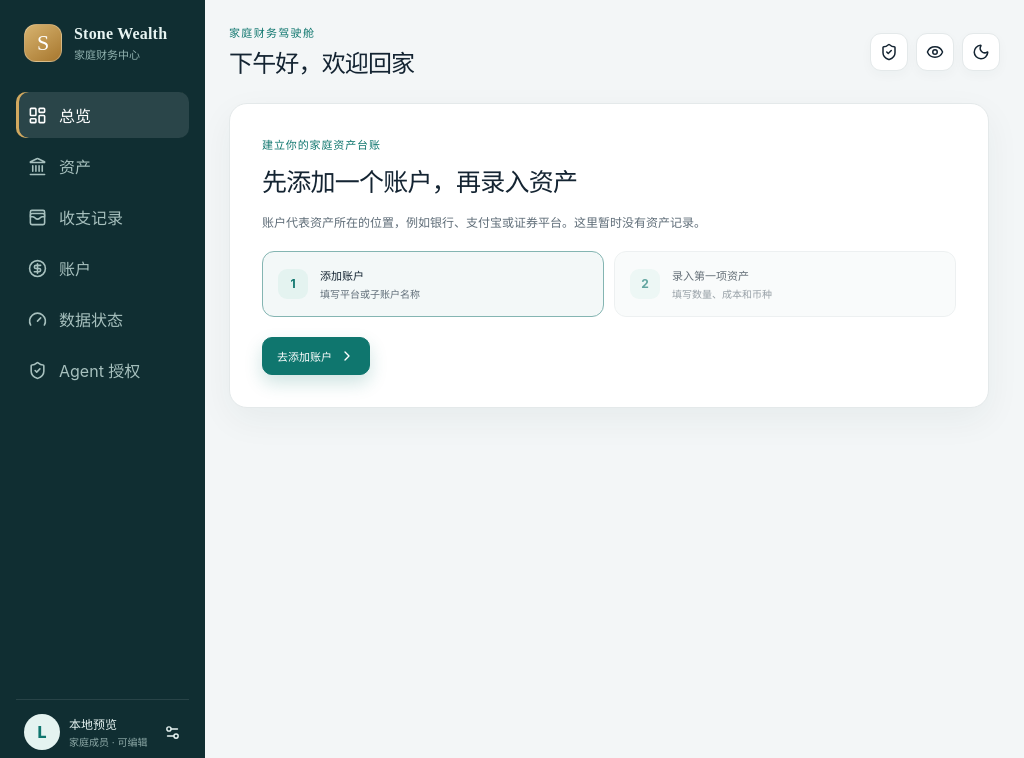
Test case: first household use › guides a new household from account creation to the existing asset form
Expected: the heading "先添加一个账户，再录入资产" is shown, left=262, top=166, right=577, bottom=198
Click the link "去添加账户".
click(316, 356)  # box left=262, top=337, right=370, bottom=375
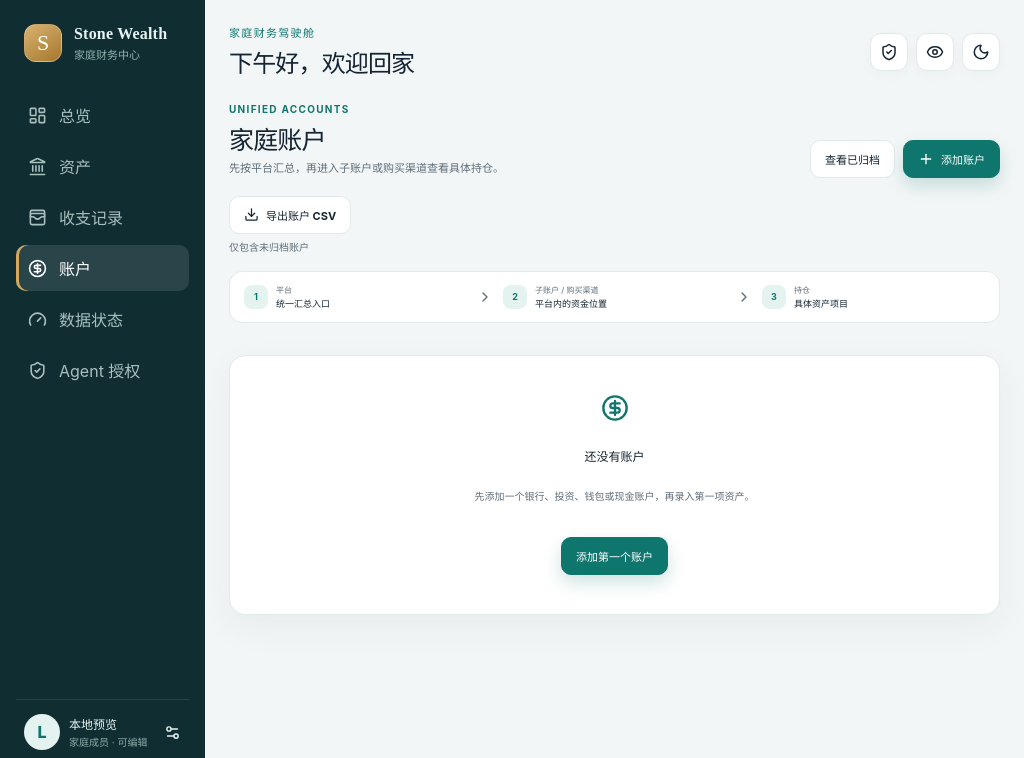
Click the button "添加第一个账户".
click(614, 556)  # box left=561, top=537, right=668, bottom=575
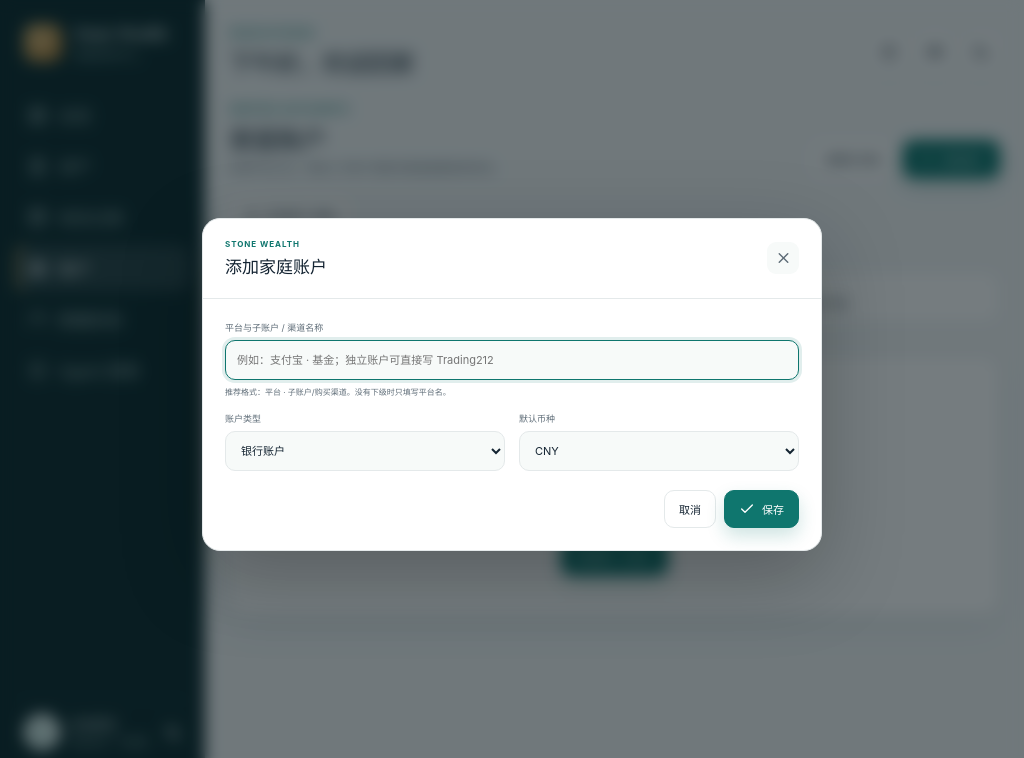
Type "测试银行 · 储蓄" into the field.
click(512, 360); type("测试银行 · 储蓄")  # box left=225, top=340, right=799, bottom=380
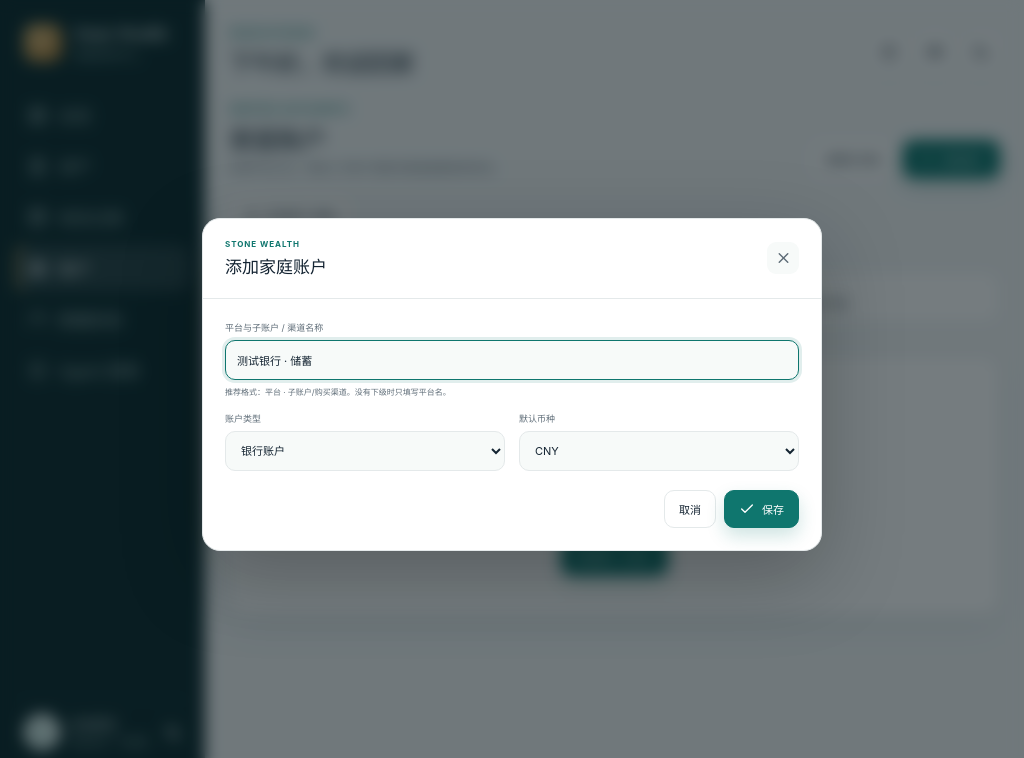
Click the button "保存".
click(762, 508)  # box left=724, top=490, right=799, bottom=528
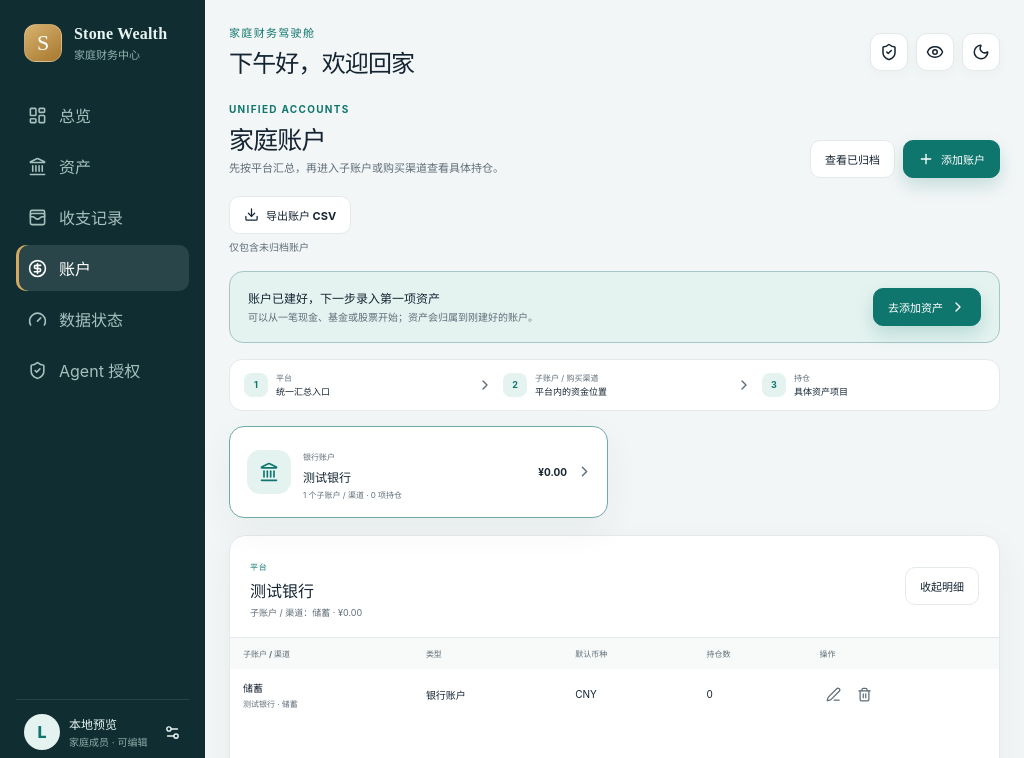
Result: the text "账户已建好，下一步录入第一项资产" is shown at left=248, top=291, right=440, bottom=306
Click the link "去添加资产".
click(927, 307)  # box left=873, top=288, right=981, bottom=326
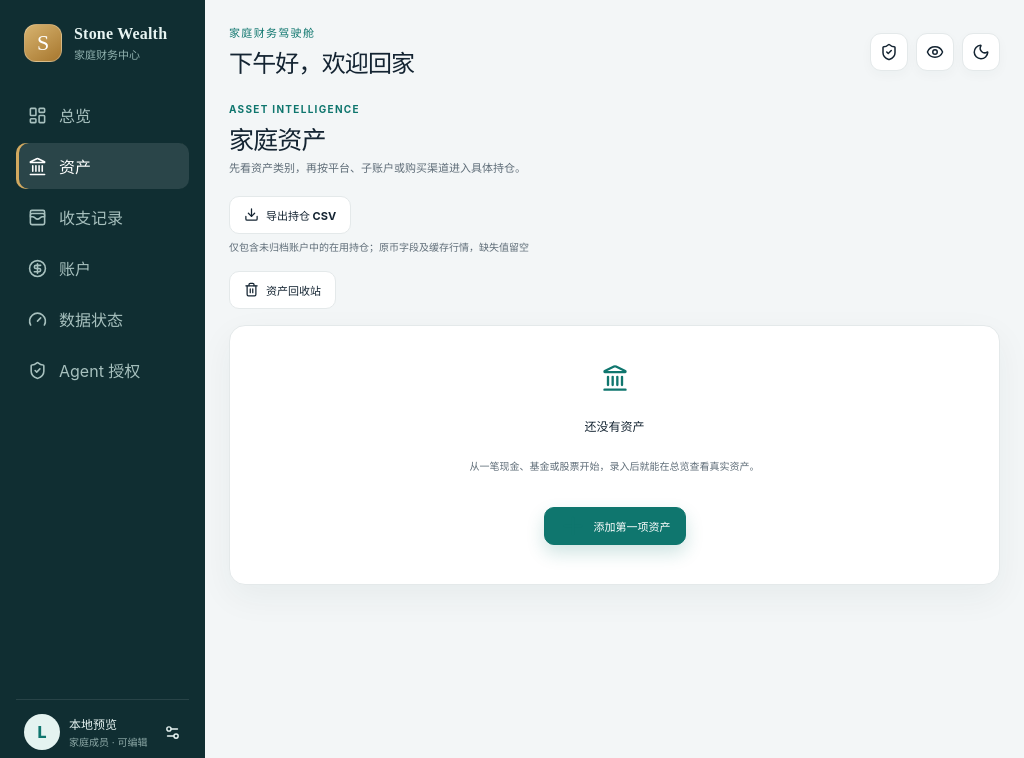
Click the button "添加第一项资产".
click(614, 526)  # box left=544, top=507, right=686, bottom=545
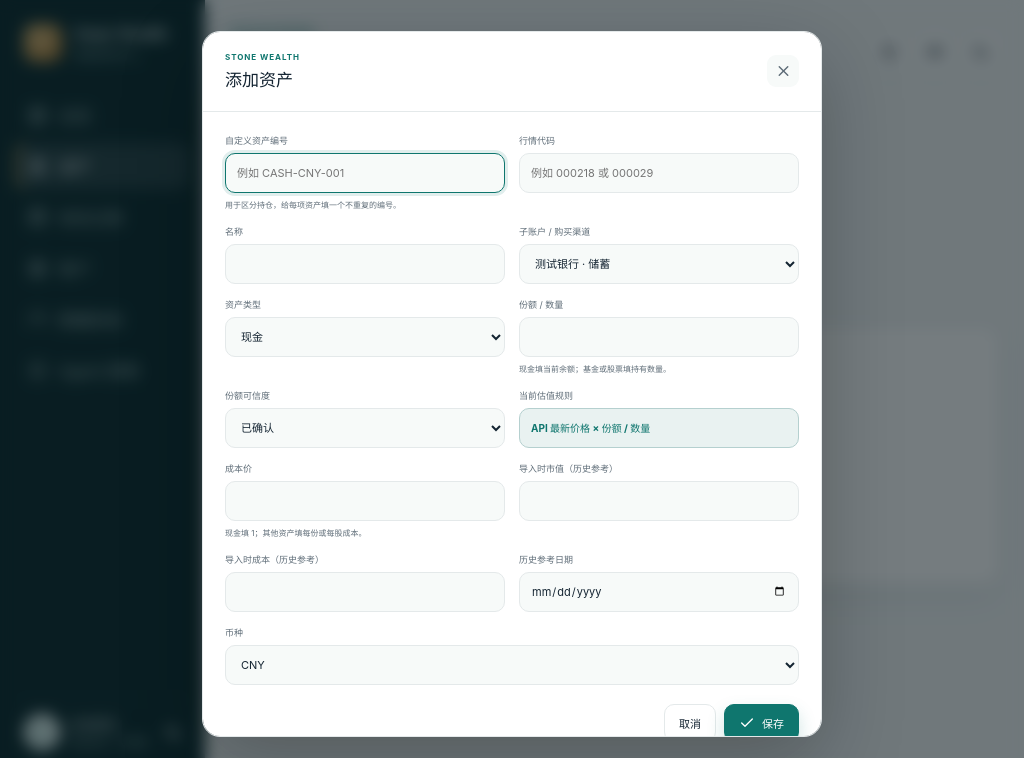
Result: the dropdown labelled "子账户 / 购买渠道" shows "测试银行 · 储蓄" at left=519, top=244, right=799, bottom=284
